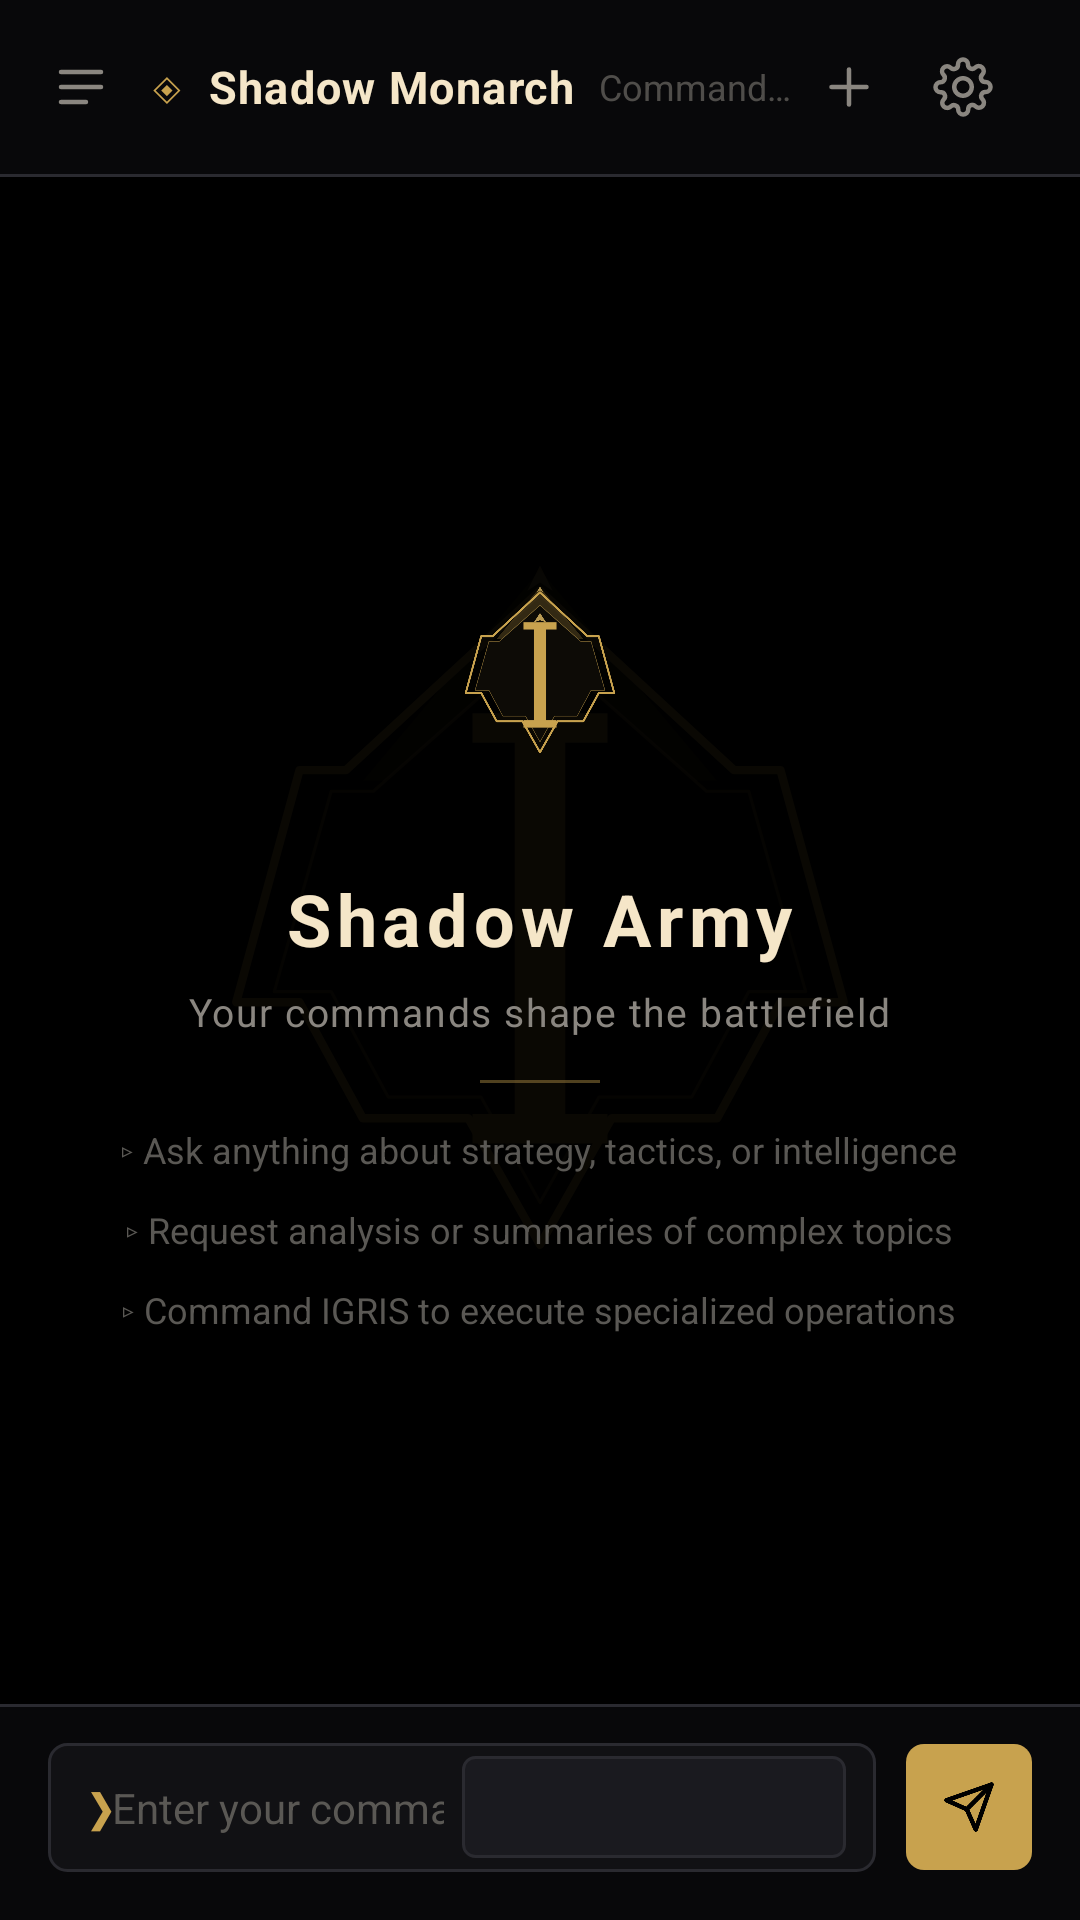

Point at icon controls on the screen. Image size 1080*1920, points as (x,y).
Chat history: (81,87)
New chat: (849,87)
Send message: (969,1807)
Settings: (963,87)
